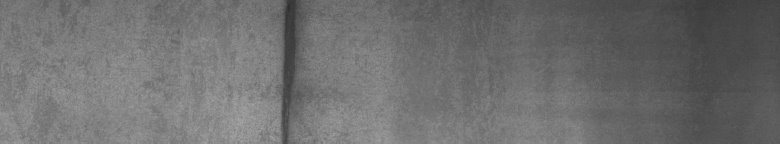hd: (276, 4, 294, 136)
